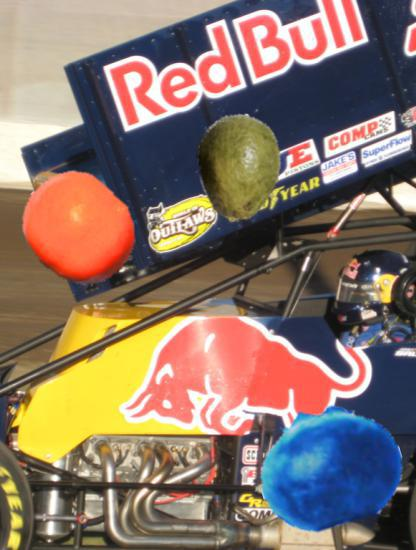Clementine: (19, 170, 138, 289)
Guava: (183, 113, 293, 223)
Huckleberry: (257, 394, 403, 540)
